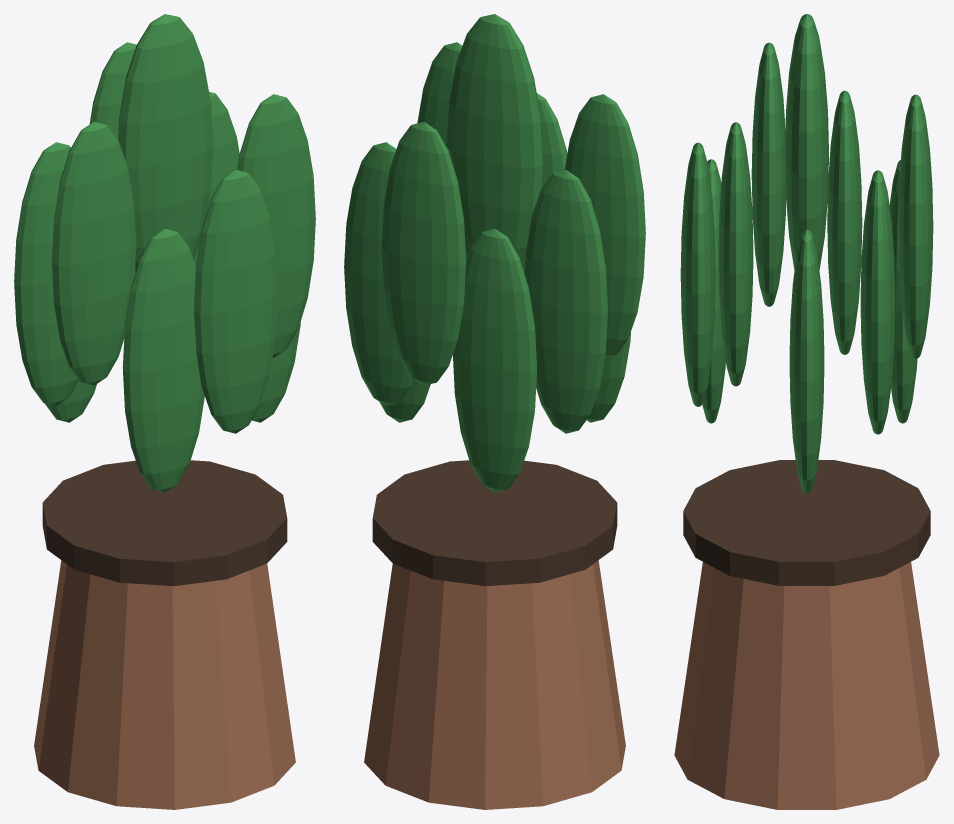
File: Plant.fbx
The picture shows the model from 3 angles, left to right: view 1: azimuth 30°, elevation 25°; view 2: azimuth 150°, elevation 25°; view 3: azimuth 270°, elevation 25°; orthographic projection.
Visible parts, largest first — view 1: Plant; view 2: Plant; view 3: Plant.
Part boxes in pixels (bbox=[...]): Plant: bbox=[14, 14, 315, 809]; Plant: bbox=[344, 14, 645, 809]; Plant: bbox=[674, 14, 939, 809].
Bounding box in the file's own units: 0.7049 × 1.85 × 0.6.
